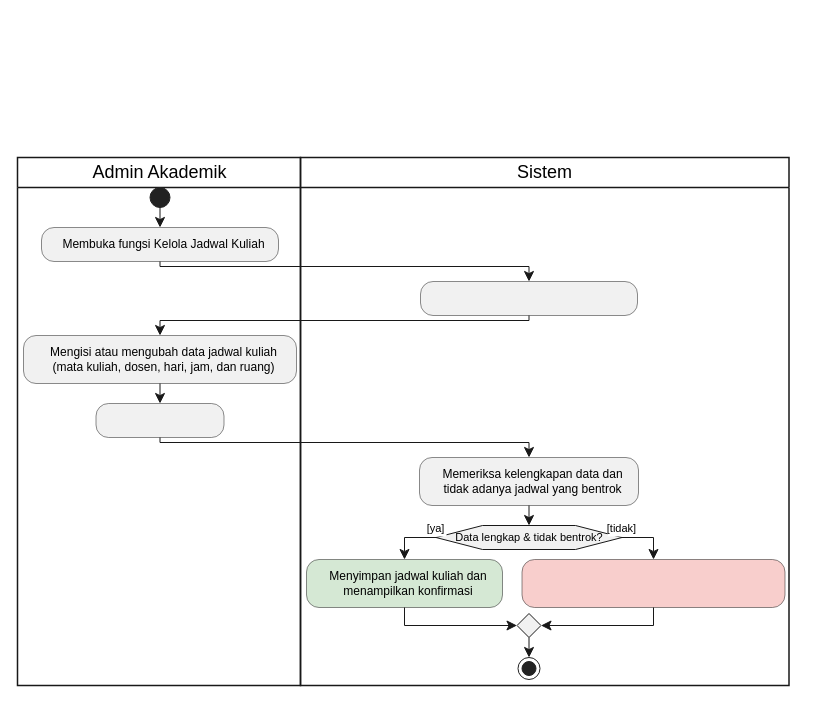
This 835x703 diagram has some shape labels left out. Each missing label, with the box of its shape:
Menampilkan daftar jadwal kuliah: (420, 281, 637, 315)
Menolak penyimpanan dan menampilkan pesan kesalahan jadwal: (521, 559, 785, 607)
Menyimpan jadwal: (95, 403, 224, 437)
